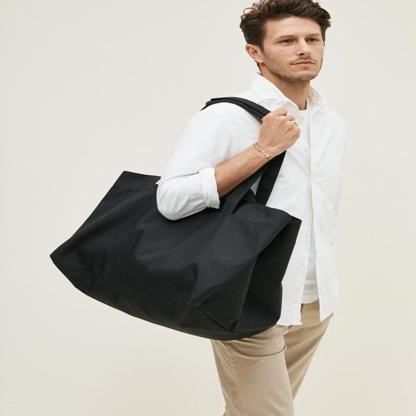not trash: (52, 100, 302, 340)
